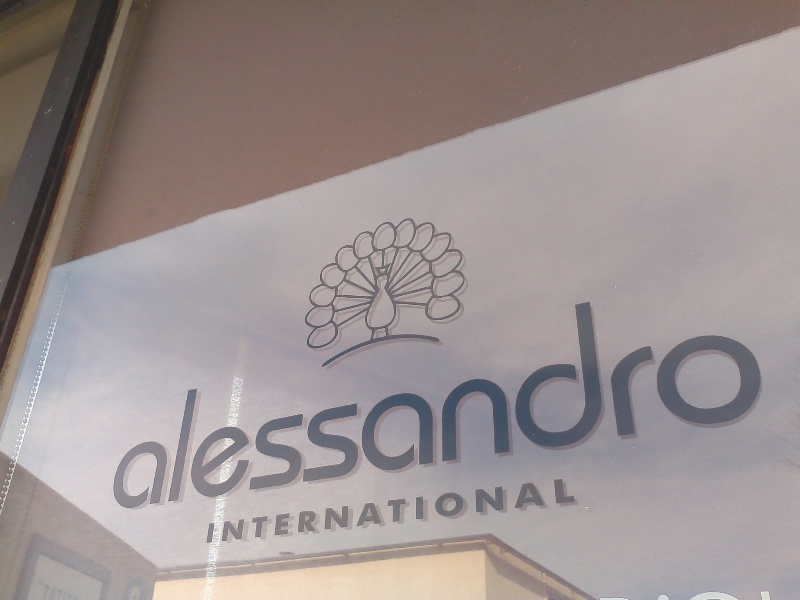text: (129, 270, 144, 515), (145, 270, 160, 515), (161, 270, 176, 515), (177, 270, 192, 515), (193, 270, 208, 515), (209, 270, 224, 515), (225, 270, 240, 515), (241, 270, 256, 515), (257, 270, 272, 515), (273, 270, 288, 515), (289, 270, 304, 515), (305, 270, 320, 515), (321, 270, 336, 515), (337, 270, 352, 515), (353, 270, 368, 515), (369, 270, 384, 515), (385, 270, 400, 515), (401, 270, 416, 515), (417, 270, 432, 515), (433, 270, 448, 515), (449, 270, 464, 515), (465, 270, 480, 515), (481, 270, 496, 515), (497, 270, 512, 515), (513, 270, 528, 515), (529, 270, 544, 515), (545, 270, 560, 515), (561, 270, 576, 515), (577, 270, 592, 515), (593, 270, 608, 515), (609, 270, 624, 515), (625, 270, 640, 515), (641, 270, 656, 515), (657, 270, 672, 515), (673, 270, 688, 515), (689, 270, 704, 515), (705, 270, 720, 515), (721, 270, 736, 515), (737, 270, 752, 515), (753, 270, 768, 515), (118, 270, 128, 515), (769, 270, 776, 515), (209, 474, 224, 546), (225, 474, 240, 546), (241, 474, 256, 546), (257, 474, 272, 546), (273, 474, 288, 546), (289, 474, 304, 546), (305, 474, 320, 546), (321, 474, 336, 546), (337, 474, 352, 546), (353, 474, 368, 546), (369, 474, 384, 546), (385, 474, 400, 546), (401, 474, 416, 546), (417, 474, 432, 546), (433, 474, 448, 546), (449, 474, 464, 546), (465, 474, 480, 546), (481, 474, 496, 546), (497, 474, 512, 546), (513, 474, 528, 546), (529, 474, 544, 546), (545, 474, 560, 546), (561, 474, 576, 546), (577, 474, 584, 546)
